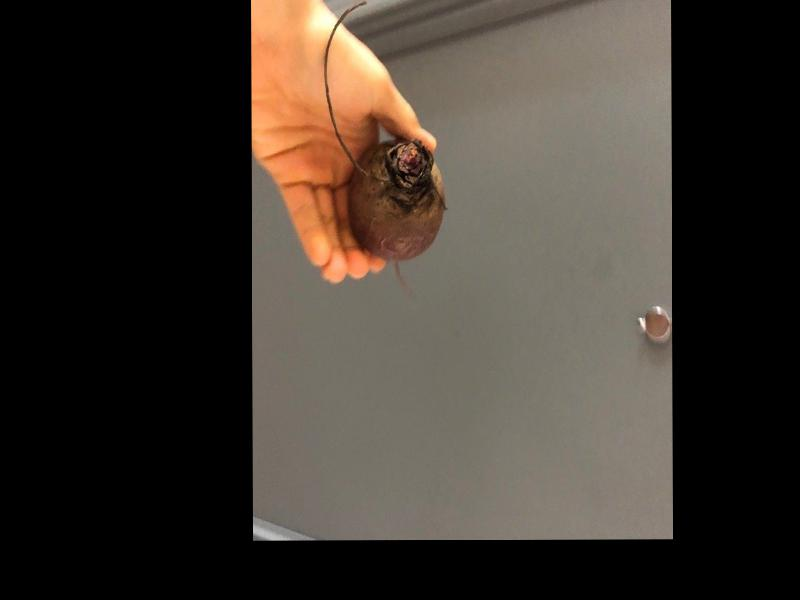Beet: (323, 2, 444, 292)
